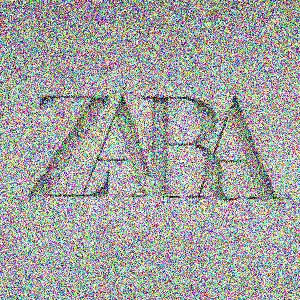zara: (284, 44, 300, 132)
